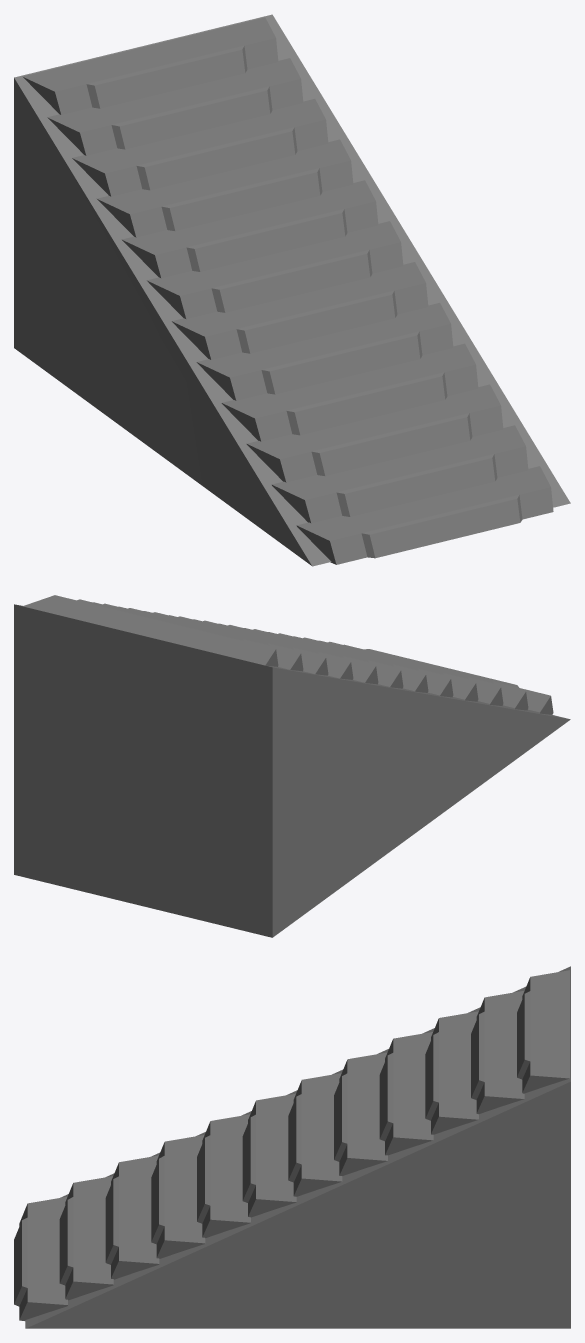
The model's file is q-scifi-mod-platform-stairs-4.glb.
3 views of the same model, one above another, from view 1: azimuth 30°, elevation 25°; view 2: azimuth 150°, elevation 25°; view 3: azimuth 270°, elevation 25° (orthographic). The views are drawn at different scales.
Visible parts, largest first — view 1: Platform_Stairs_4; view 2: Platform_Stairs_4; view 3: Platform_Stairs_4.
Part boxes in pixels (x1,y1,x2,y2): Platform_Stairs_4: [14, 14, 570, 566]; Platform_Stairs_4: [14, 595, 570, 937]; Platform_Stairs_4: [14, 966, 570, 1328].
Size of the model in its own units: 2 by 2.01 by 4.08.
2 materials, 2 textured.
